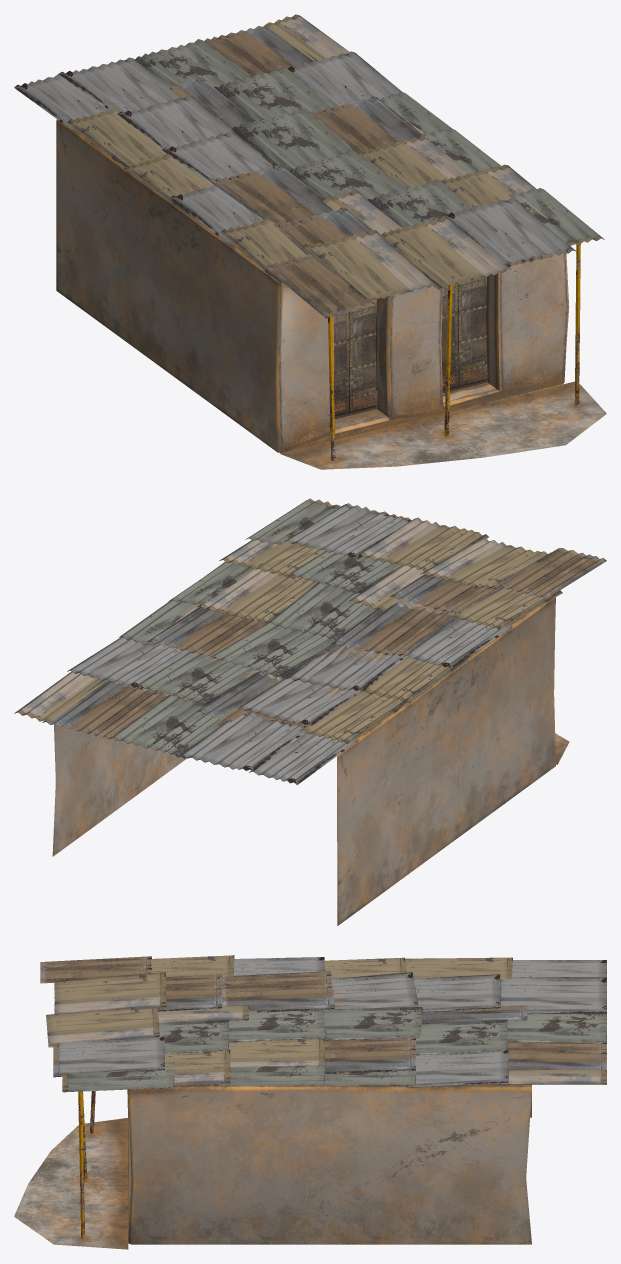
Rendered from G_LP_House_T01.FBX.
3 views of the same model, one above another, from view 1: azimuth 30°, elevation 25°; view 2: azimuth 150°, elevation 25°; view 3: azimuth 270°, elevation 25° (orthographic). The views are drawn at different scales.
Parts seen in each view (by area): view 1: G_LP_House_T01; view 2: G_LP_House_T01; view 3: G_LP_House_T01.
Part boxes in pixels (left/top/right/bottom): G_LP_House_T01: left=14, top=14, right=606, bottom=469; G_LP_House_T01: left=14, top=498, right=606, bottom=925; G_LP_House_T01: left=14, top=955, right=606, bottom=1249.
Bounding box in the file's own units: 547 × 318 × 1030.
1 material, 1 textured.
